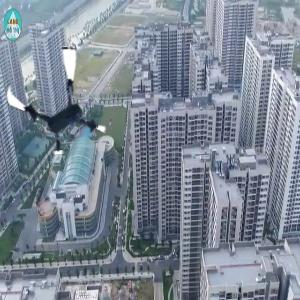drone: (6, 48, 114, 156)
